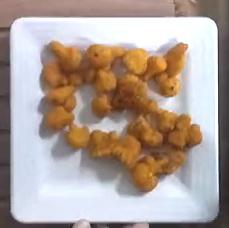fruit: (72, 82, 133, 135)
